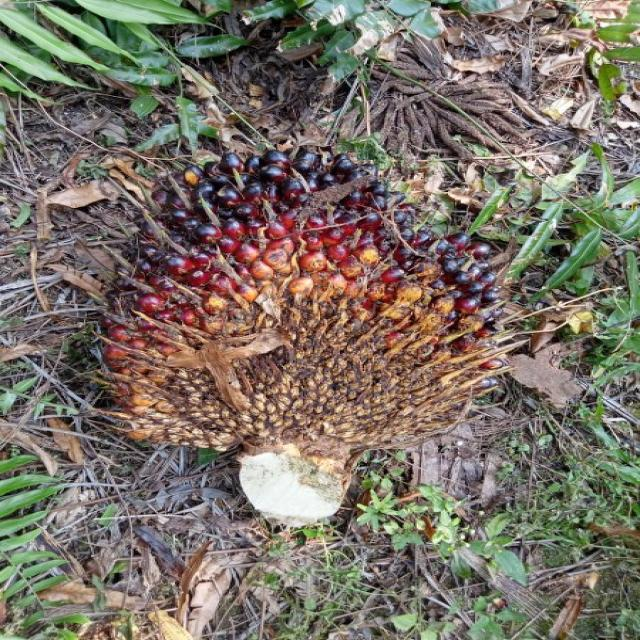fraksi 00: (54, 146, 502, 463)
